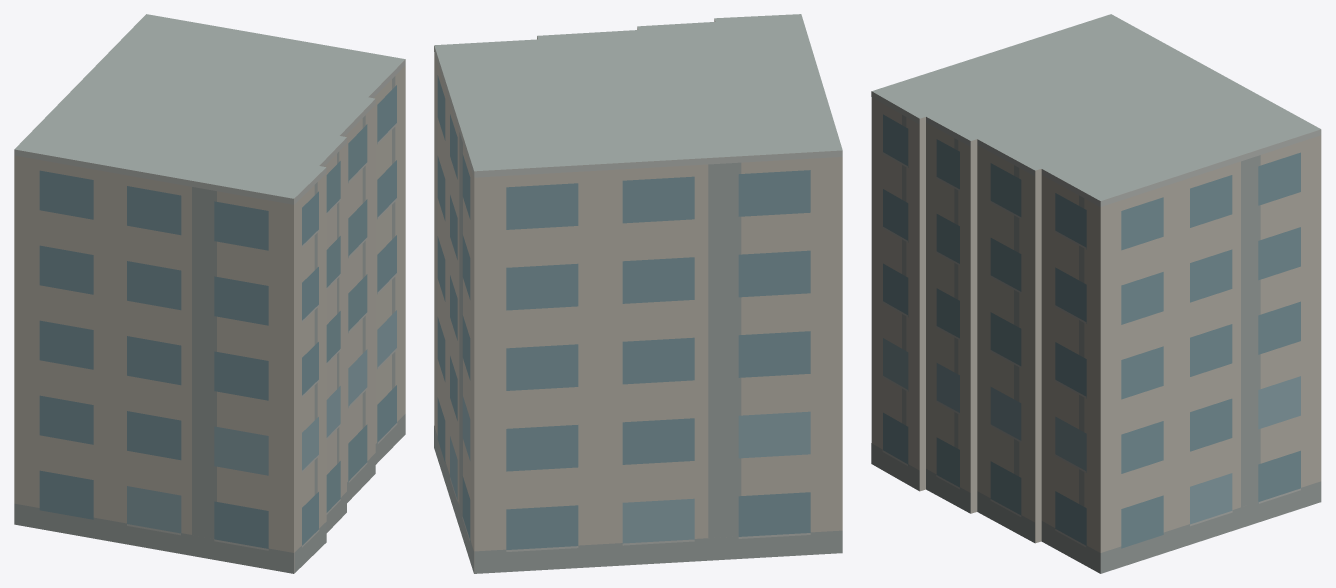
File: survey-upis-32636774.glb
The picture shows the model from 3 angles, left to right: view 1: azimuth 30°, elevation 25°; view 2: azimuth 150°, elevation 25°; view 3: azimuth 270°, elevation 25°; orthographic projection. The views are drawn at different scales.
Parts seen in each view (by area): view 1: survey-upis-32636774.tmp; view 2: survey-upis-32636774.tmp; view 3: survey-upis-32636774.tmp.
Part boxes in pixels (box(x1,y1,x2,y2)): survey-upis-32636774.tmp: box(14, 14, 405, 573); survey-upis-32636774.tmp: box(434, 14, 842, 573); survey-upis-32636774.tmp: box(871, 14, 1321, 573).
Size of the model in its own units: 16.43 by 15.25 by 16.69.
